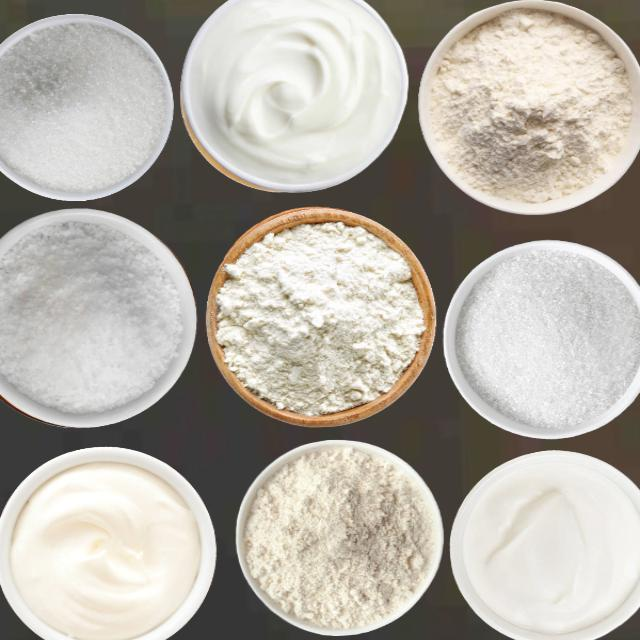Flour: (214, 220, 424, 416), (428, 7, 633, 203), (243, 445, 434, 630), (455, 247, 639, 429)
Sugar: (0, 219, 182, 414), (0, 15, 171, 196)
